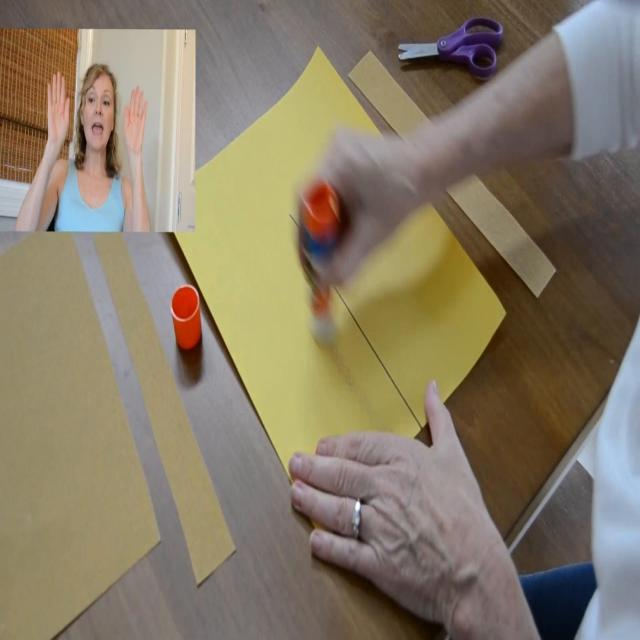scissor: (399, 15, 501, 77)
